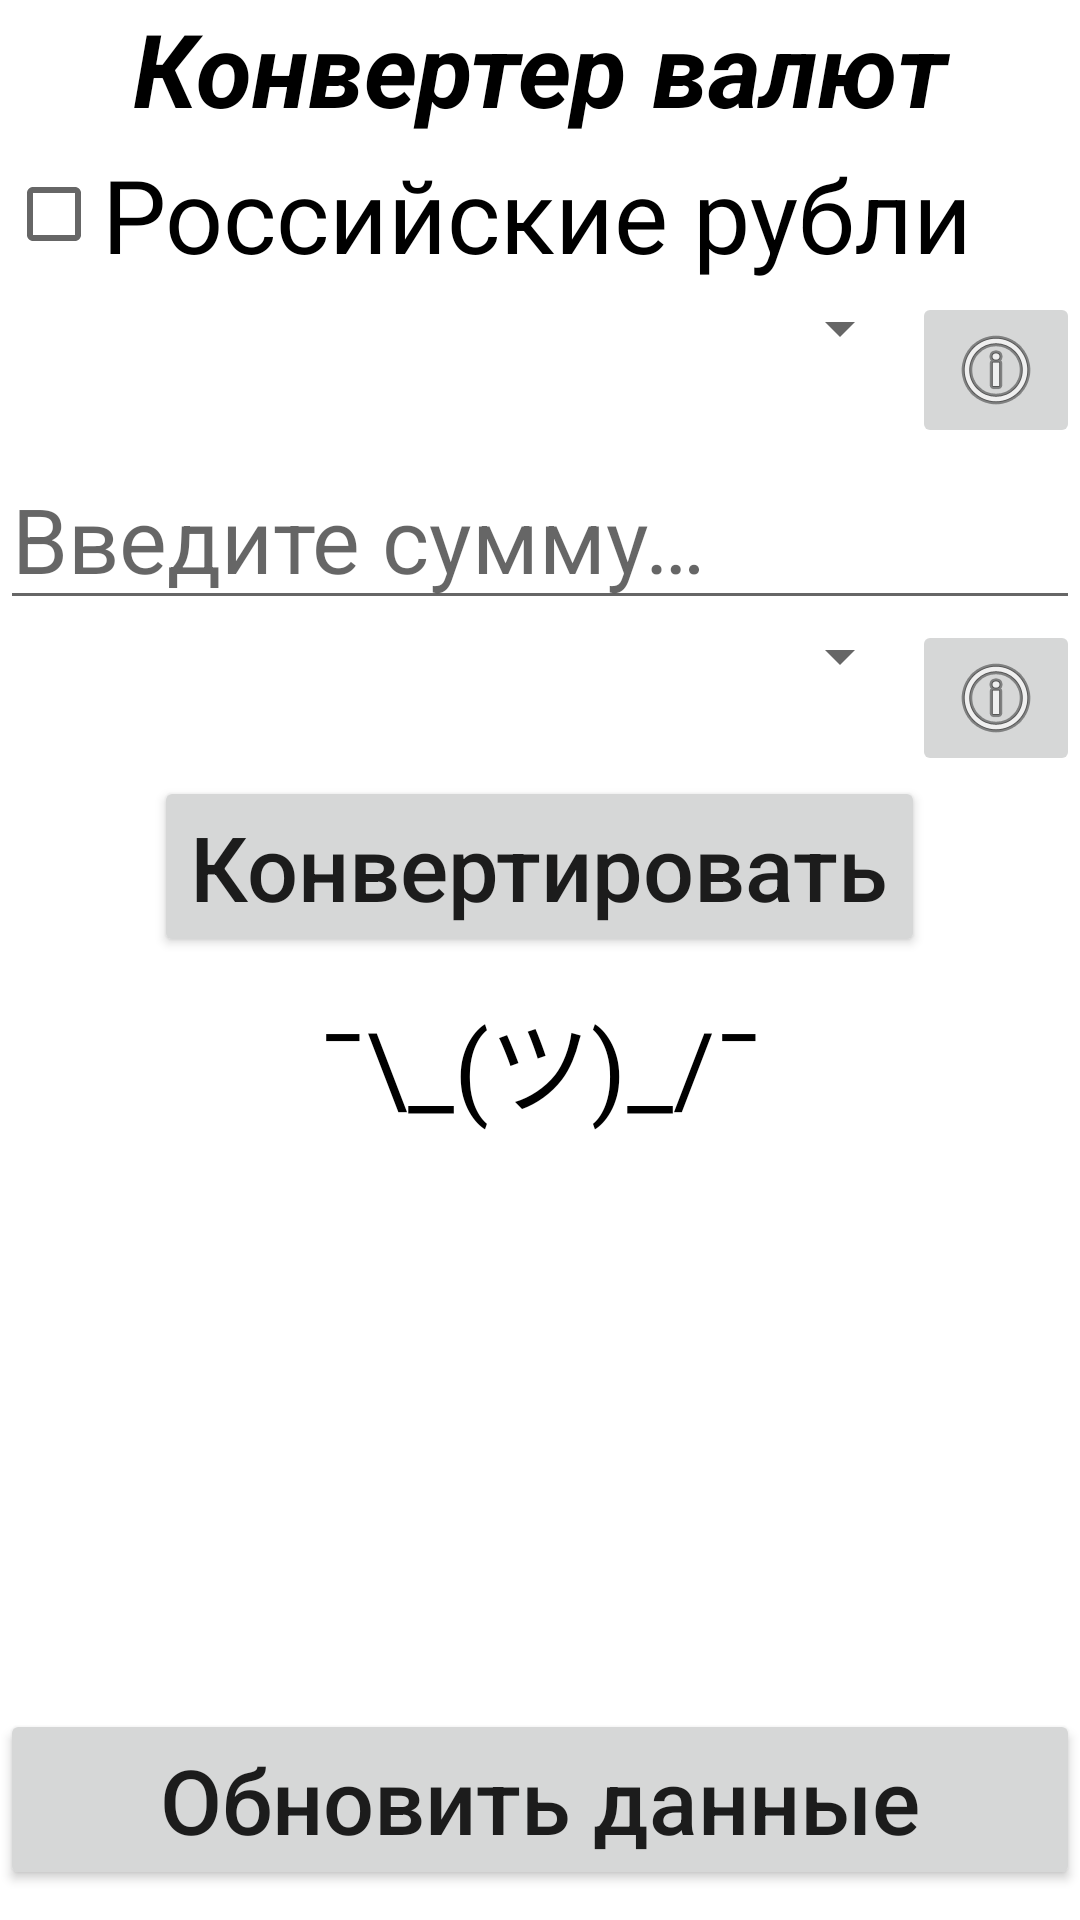

Screen size 1080w x 1920h. Icon name, then its center in pixels as point (x, y):
info details: point (996, 370), point (996, 698)
